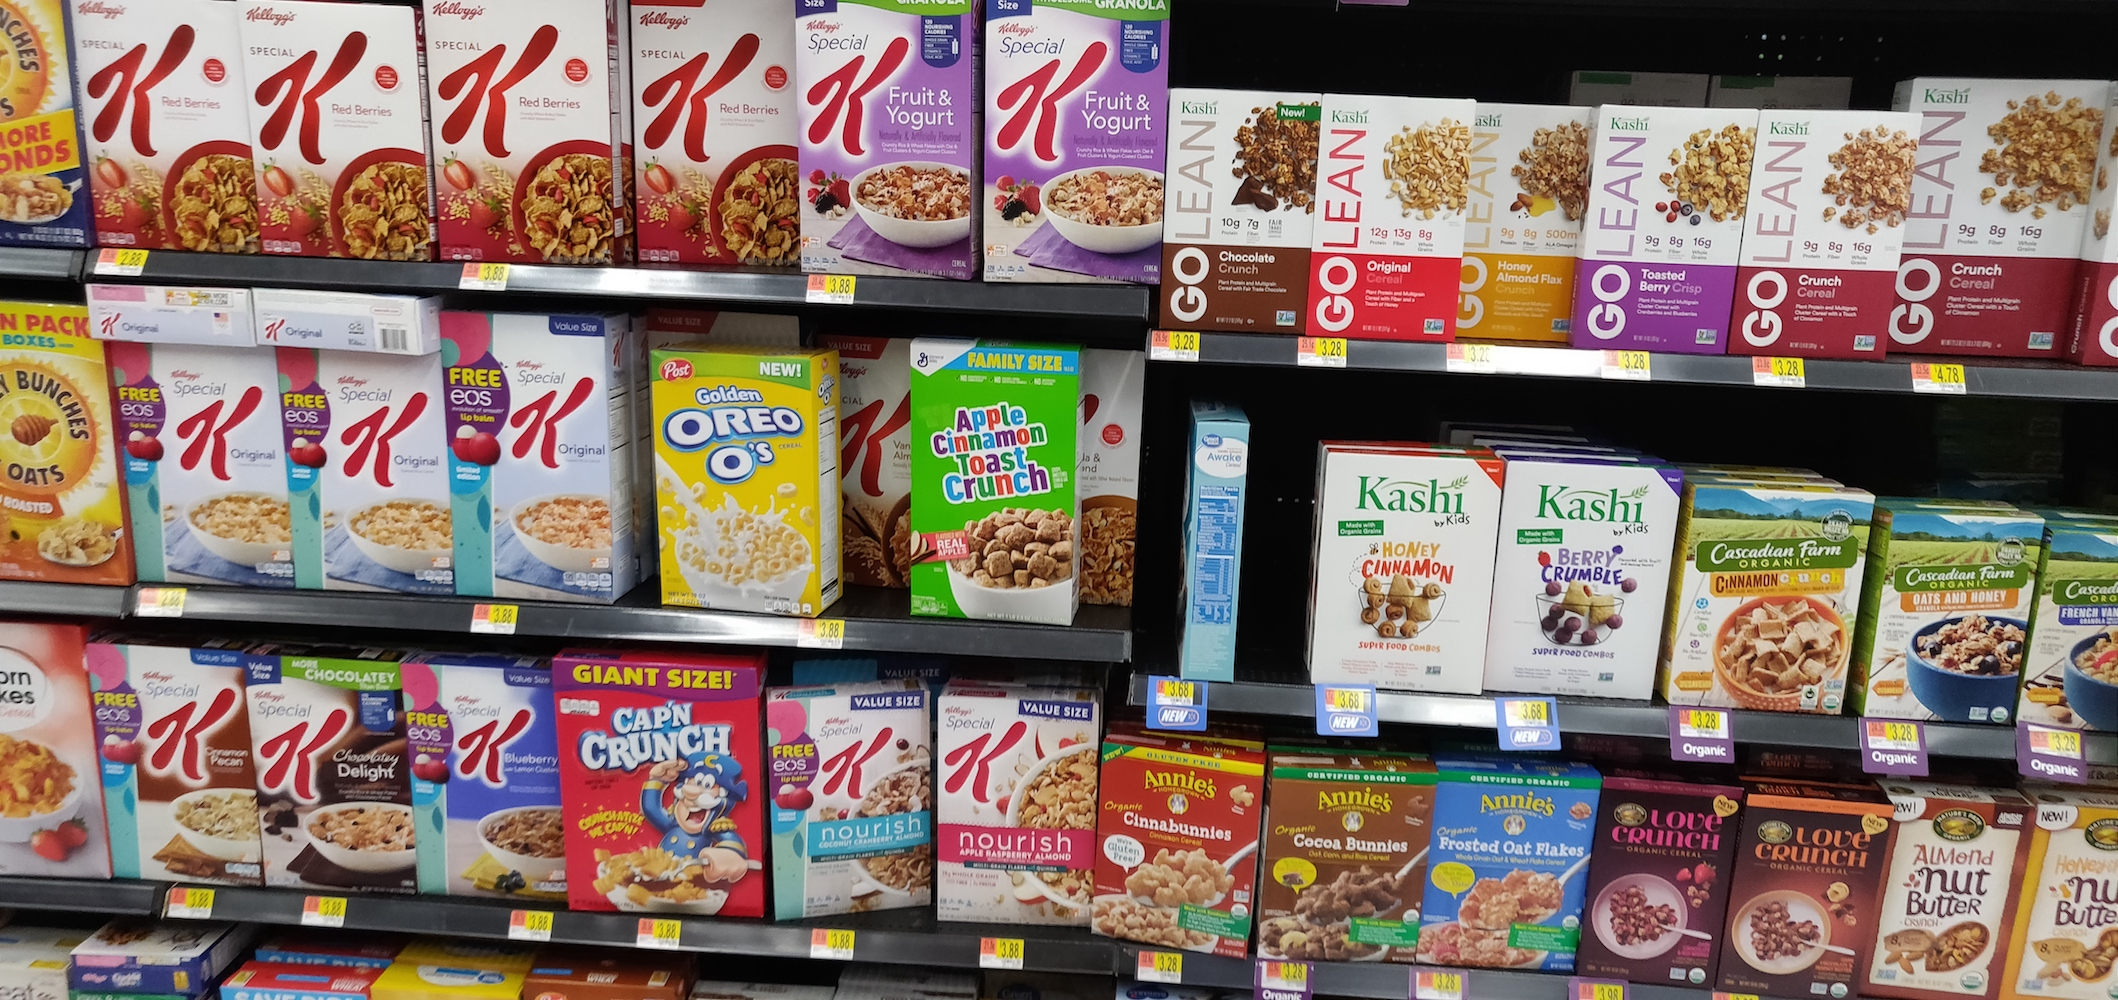Oreo Golden-568301011: (656, 355, 842, 614)
